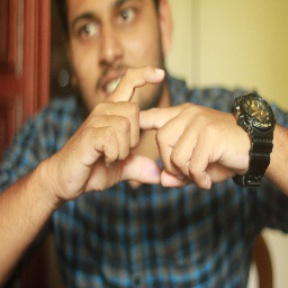E: (90, 65, 210, 193)
